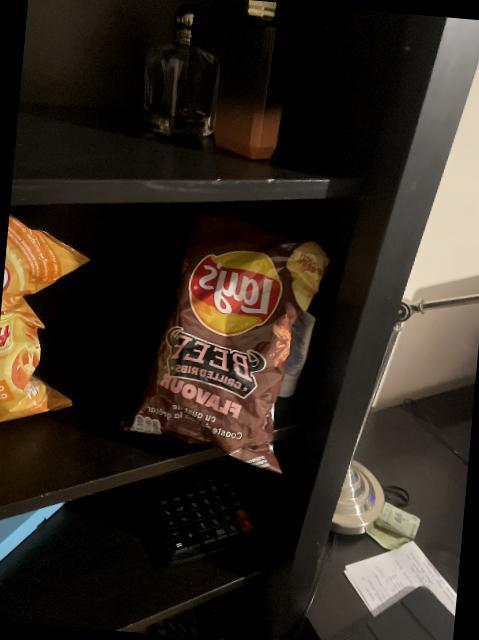Chio Cascaval 125g: (0, 206, 98, 436)
Lays Beef Grilled Ribs 125g: (106, 204, 322, 466)
